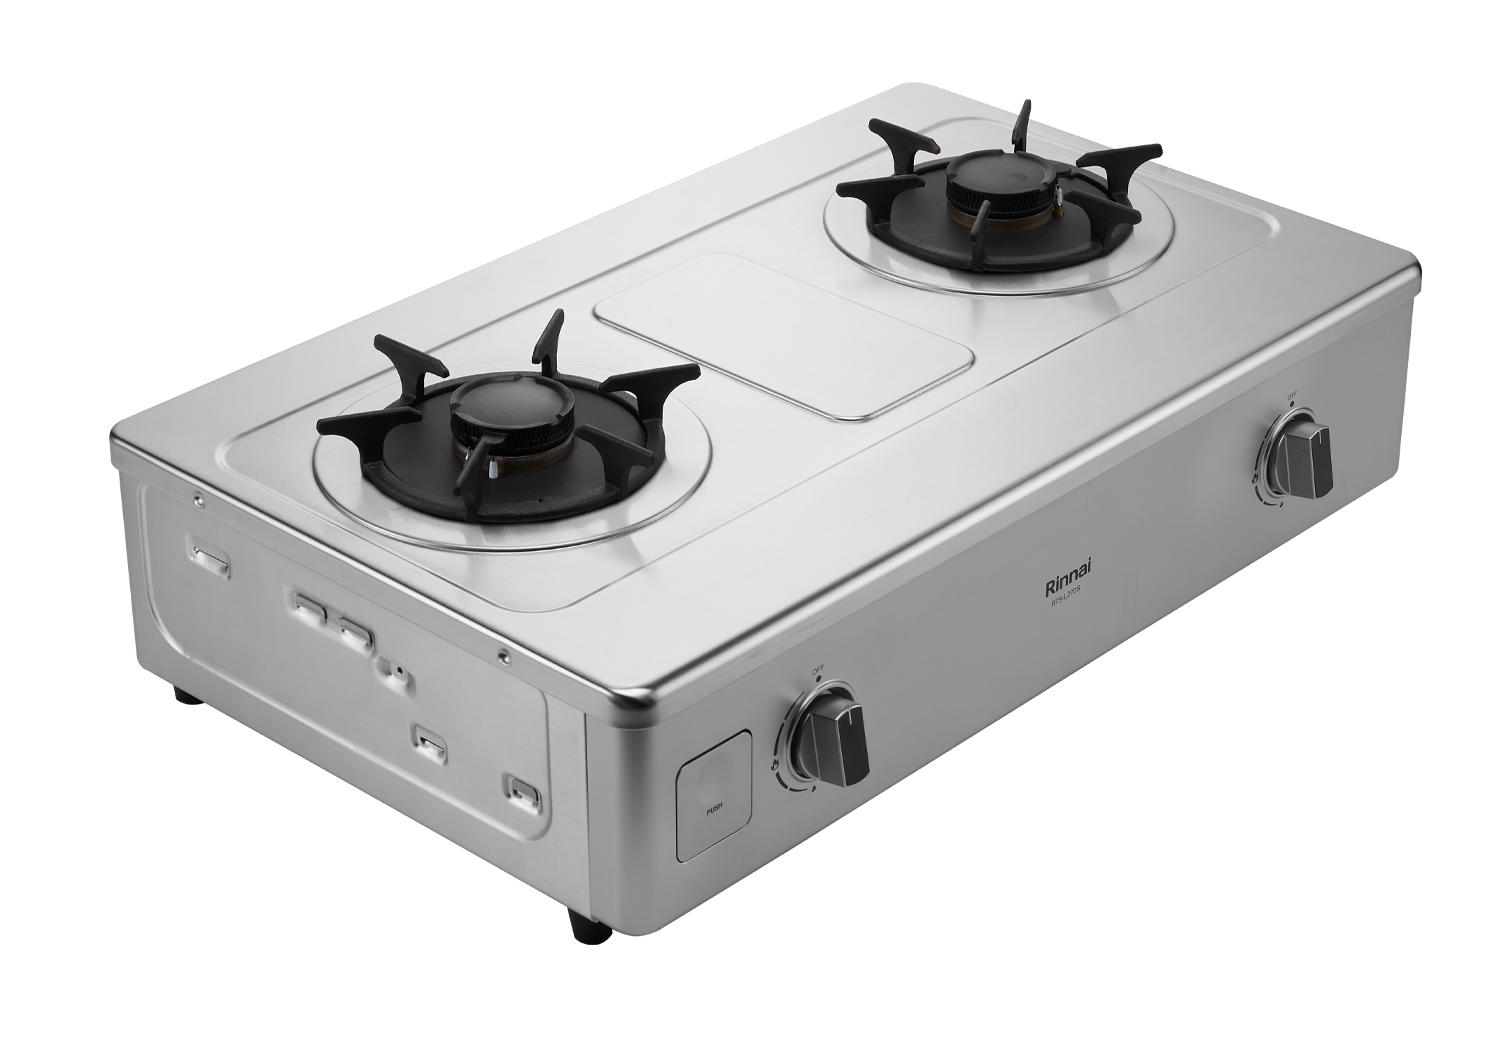gasoven: (111, 67, 1435, 954)
